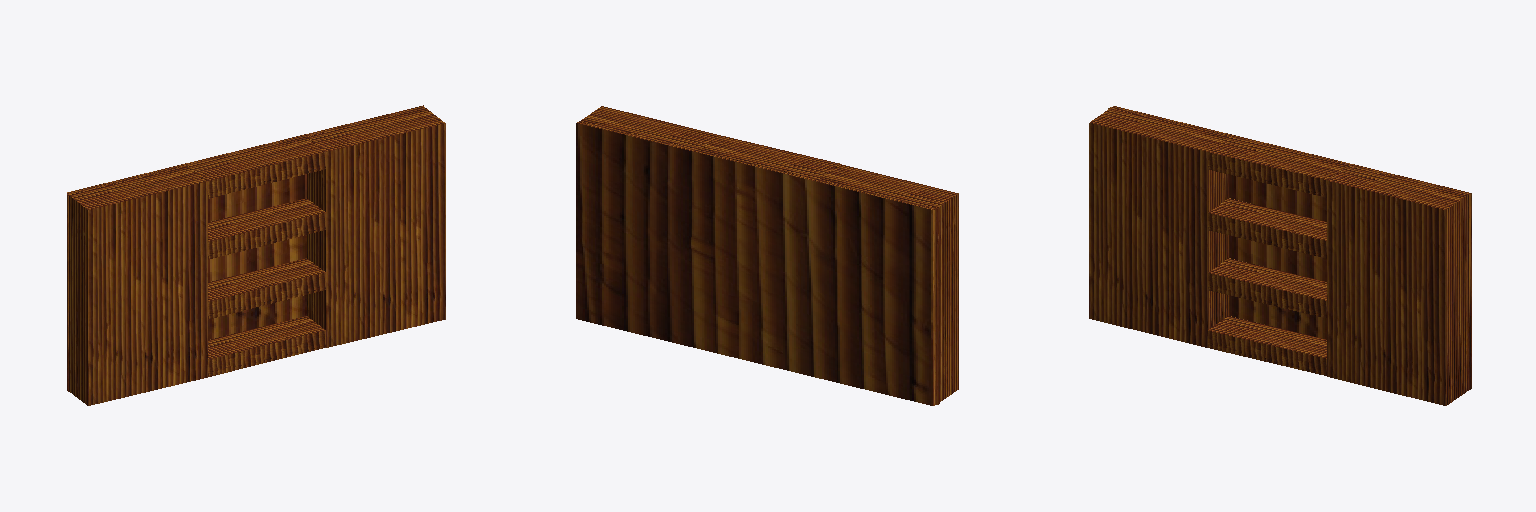
3 views of the same model, side by side, from view 1: azimuth 30°, elevation 25°; view 2: azimuth 150°, elevation 25°; view 3: azimuth 330°, elevation 25° (orthographic).
Parts seen in each view (by area): view 1: polySurface30polySurface38; view 2: polySurface30polySurface38; view 3: polySurface30polySurface38.
Part boxes in pixels (x1,y1,x2,y2): polySurface30polySurface38: (67,105,445,405); polySurface30polySurface38: (576,106,958,405); polySurface30polySurface38: (1089,106,1471,405).
Bounding box in the file's own units: 19.97 × 10.41 × 2.32.
1 materials, 1 textured.